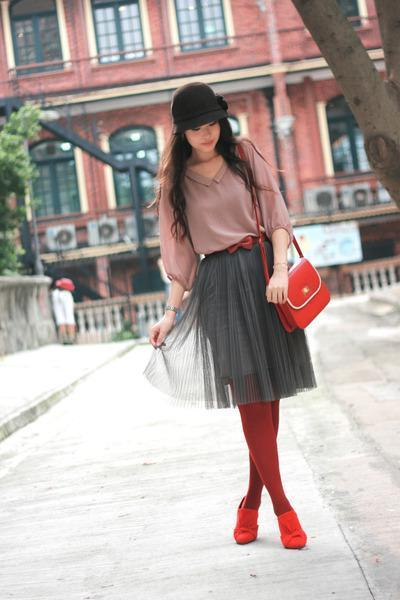long sleeve shirt: (154, 136, 294, 298)
